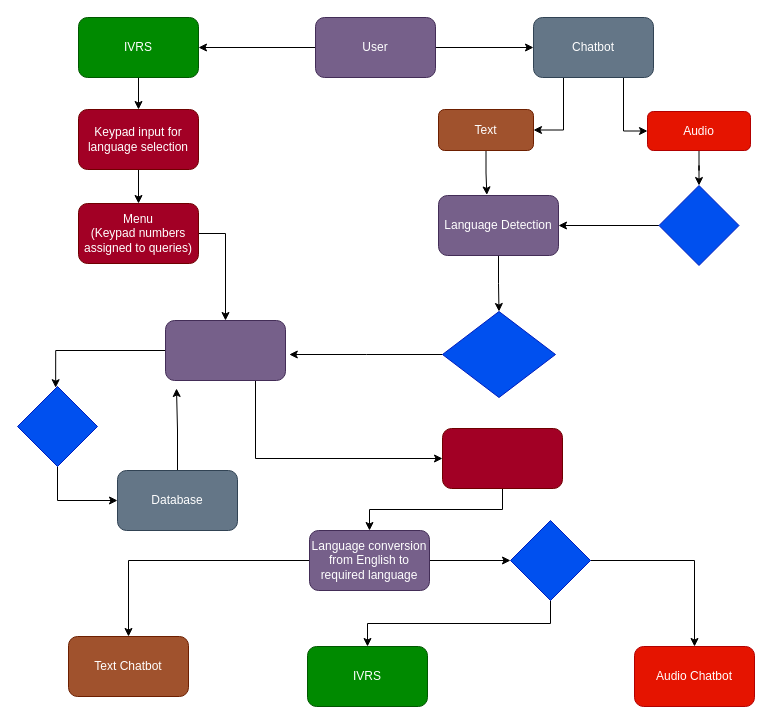
Image size: 772x724. Some labels were removed from this diagram. Each missing label, with the box of its shape:
Fetch Data: (16, 386, 98, 466)
Language Conversion to English: (442, 310, 556, 398)
LLM: (164, 320, 286, 380)
Response: (442, 428, 562, 488)
Speech to Text: (658, 184, 739, 266)
Text to Speech: (510, 520, 590, 600)
